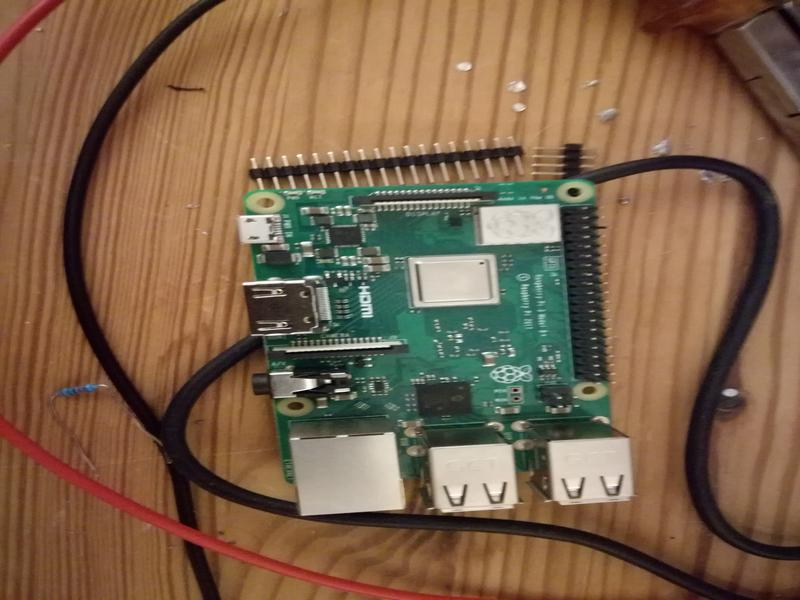Raspberry_Pi_3: (232, 167, 654, 528)
